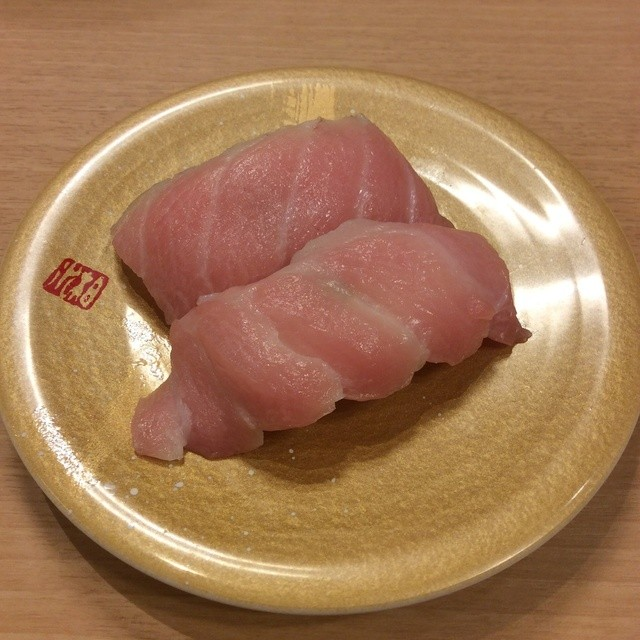medium_fatty_tuna: (153, 228, 510, 441), (117, 108, 443, 308)
